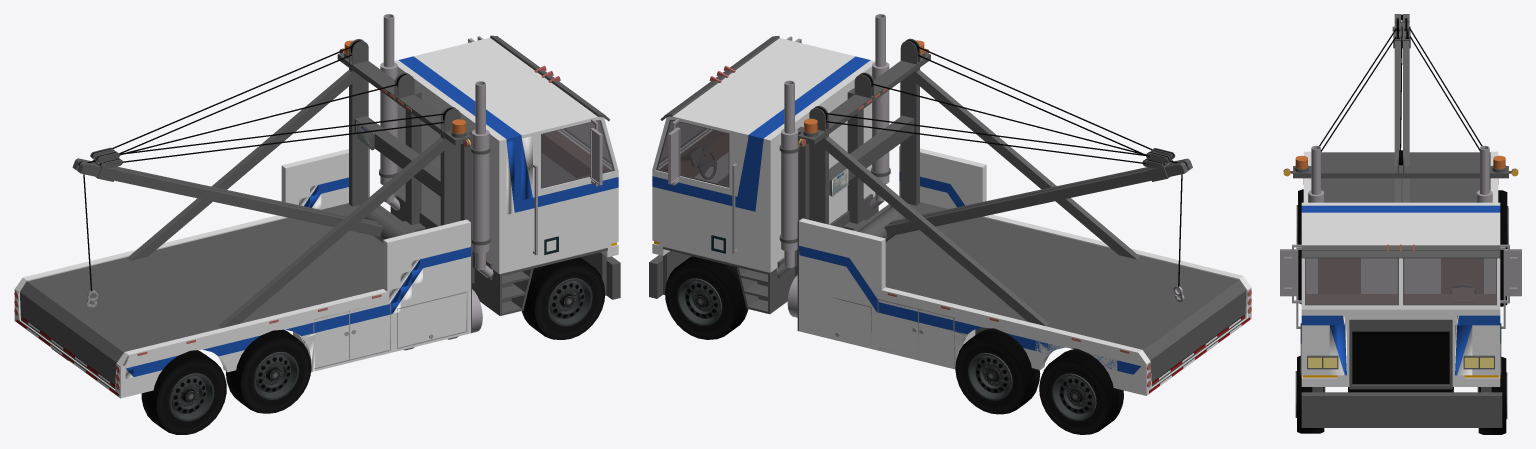
File: evakuator.glb
The picture shows the model from 3 angles, left to right: view 1: azimuth 30°, elevation 25°; view 2: azimuth 150°, elevation 25°; view 3: azimuth 270°, elevation 25°; orthographic projection. The views are drawn at different scales.
Parts seen in each view (by area): view 1: Object_4; view 2: Object_4; view 3: Object_4.
Boxes of the visible parts, left/top/right/bottom form: Object_4: left=14, top=14, right=620, bottom=434; Object_4: left=649, top=14, right=1251, bottom=434; Object_4: left=1280, top=14, right=1521, bottom=434.
Size of the model in its own units: 10.3 by 5.39 by 4.7.
Materials: 20 (20 with a texture image).
